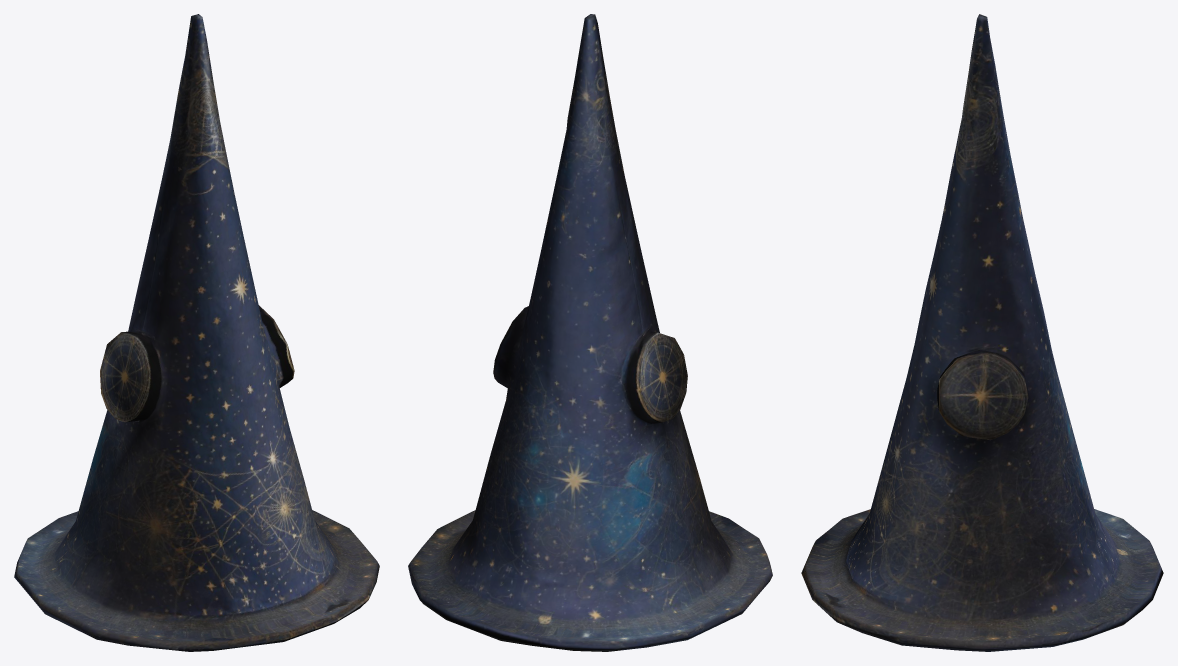
3 renders of one model, left to right at view 1: azimuth 30°, elevation 25°; view 2: azimuth 150°, elevation 25°; view 3: azimuth 270°, elevation 25°, orthographic.
Visible parts, largest first — view 1: Mesh1; view 2: Mesh1; view 3: Mesh1.
Part boxes in pixels (box(x1,y1,x2,y2)): Mesh1: box(14, 14, 379, 651); Mesh1: box(408, 14, 772, 651); Mesh1: box(801, 14, 1163, 651).
Bounding box in the file's own units: 116 × 200 × 117.
1 material, 1 textured.
